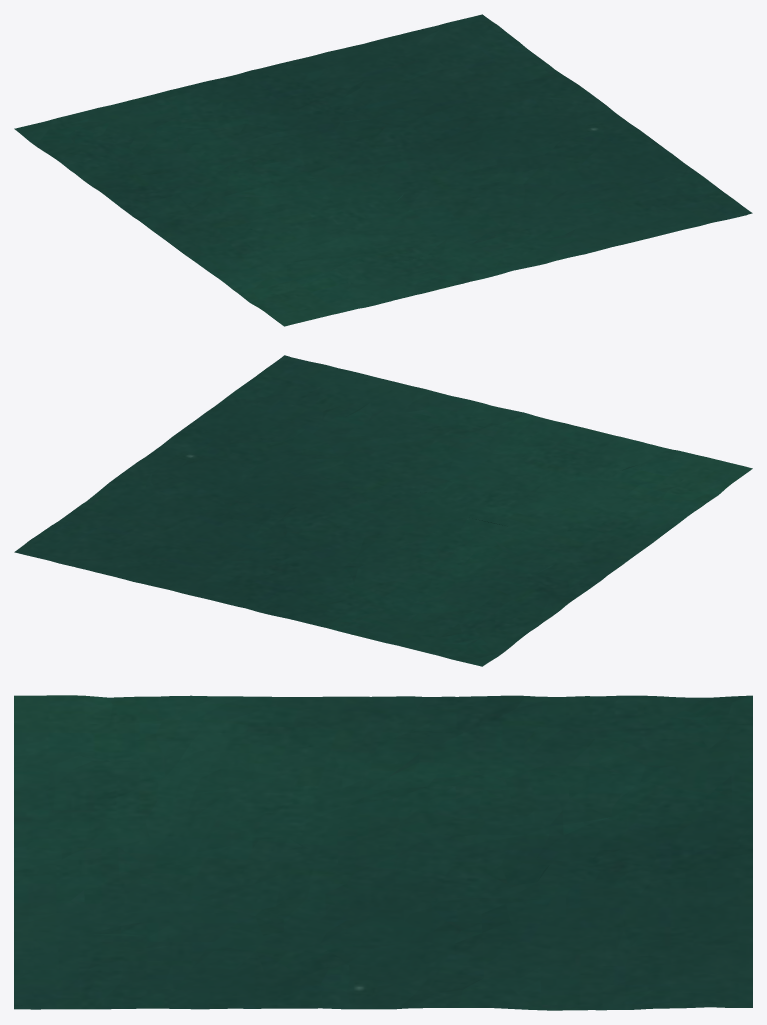
3 views of the same model, one above another, from view 1: azimuth 30°, elevation 25°; view 2: azimuth 150°, elevation 25°; view 3: azimuth 270°, elevation 25° (orthographic). The views are drawn at different scales.
Bounding box in the file's own units: 104 × 0.6584 × 104.
2 materials, 2 textured.
